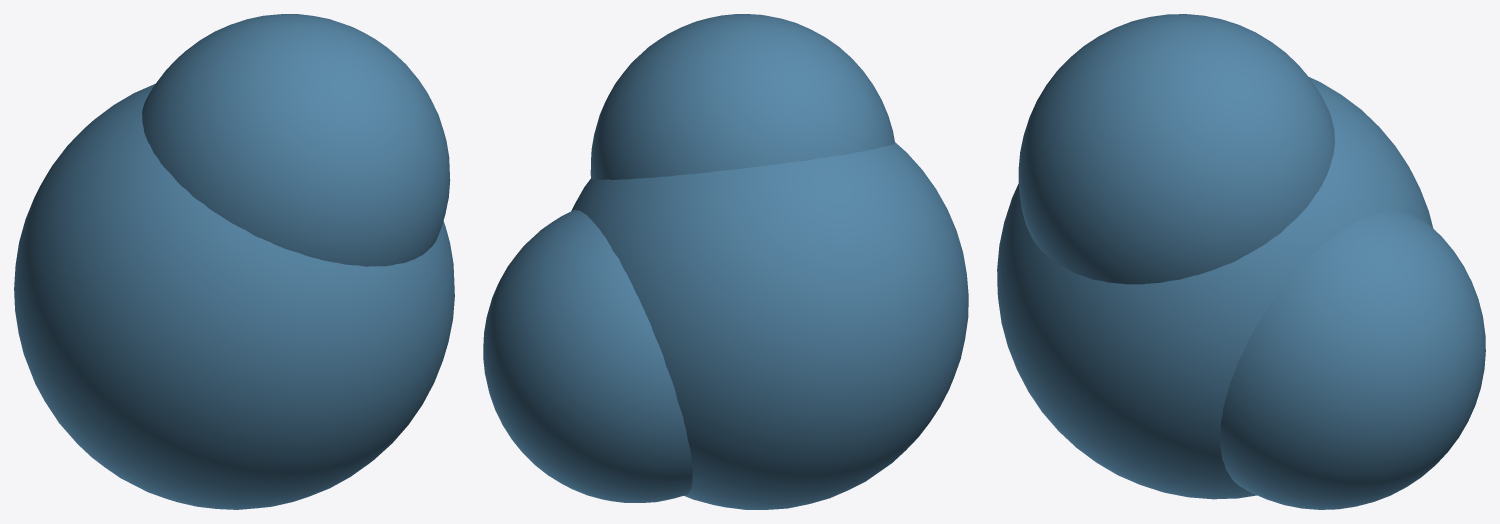
The model's file is 962-CPK-print_NIH3D.glb.
The picture shows the model from 3 angles, left to right: view 1: azimuth 30°, elevation 25°; view 2: azimuth 150°, elevation 25°; view 3: azimuth 270°, elevation 25°; orthographic projection. The views are drawn at different scales.
Parts seen in each view (by area): view 1: atoms; view 2: atoms; view 3: atoms.
Part boxes in pixels (x1=…): atoms: x1=14, y1=14, x2=454, y2=509; atoms: x1=483, y1=14, x2=968, y2=509; atoms: x1=997, y1=14, x2=1485, y2=509.
Bounding box in the file's own units: 3.2 × 3.49 × 3.31.
